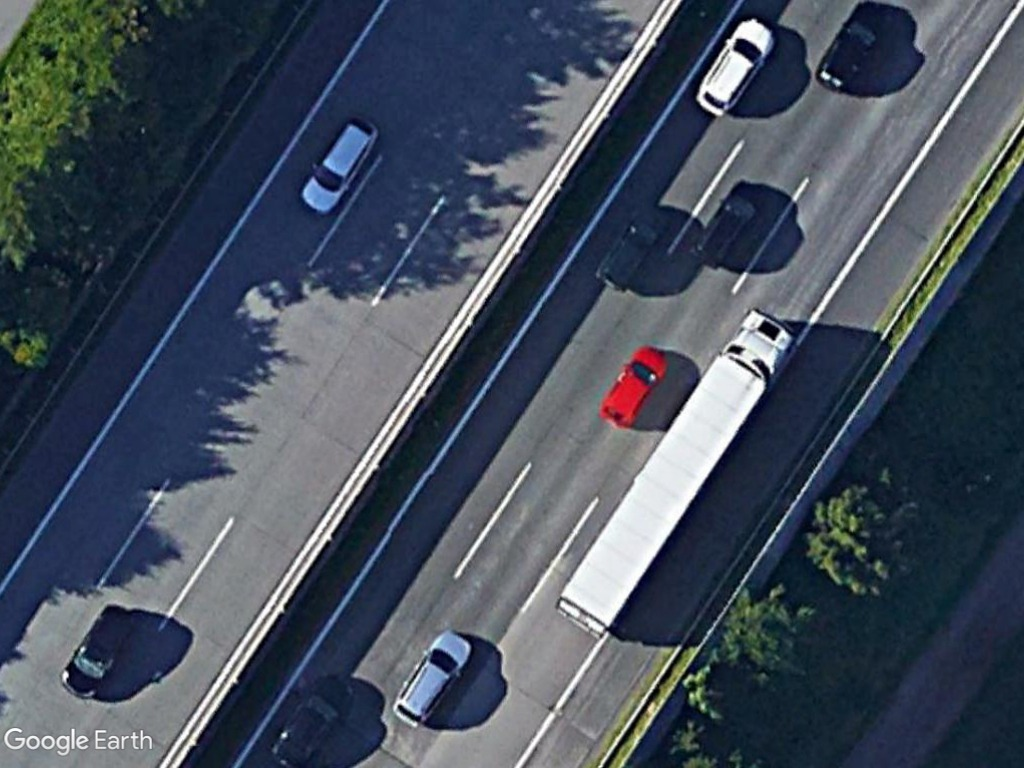car: (387, 623, 479, 731), (692, 8, 780, 116), (296, 109, 381, 220), (812, 0, 905, 91), (56, 600, 136, 705), (594, 343, 670, 433)
longvehicle: (553, 297, 803, 639)
